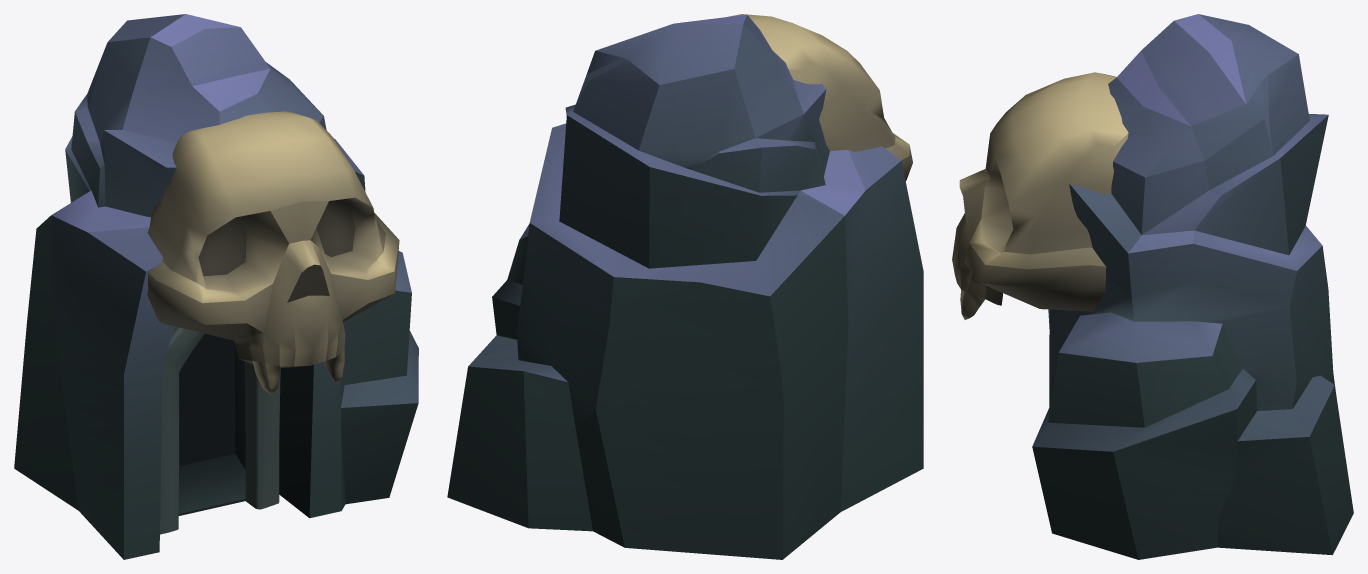
File: undead_mine_enterance.fbx
The picture shows the model from 3 angles, left to right: view 1: azimuth 30°, elevation 25°; view 2: azimuth 150°, elevation 25°; view 3: azimuth 270°, elevation 25°; orthographic projection. The views are drawn at different scales.
Visible parts, largest first — view 1: undead_mine_enterance; view 2: undead_mine_enterance; view 3: undead_mine_enterance.
Part boxes in pixels (x1,y1,x2,y2): undead_mine_enterance: [14, 14, 418, 559]; undead_mine_enterance: [447, 14, 923, 559]; undead_mine_enterance: [952, 14, 1353, 559].
Bounding box in the file's own units: 7.24 × 9.57 × 7.91.
